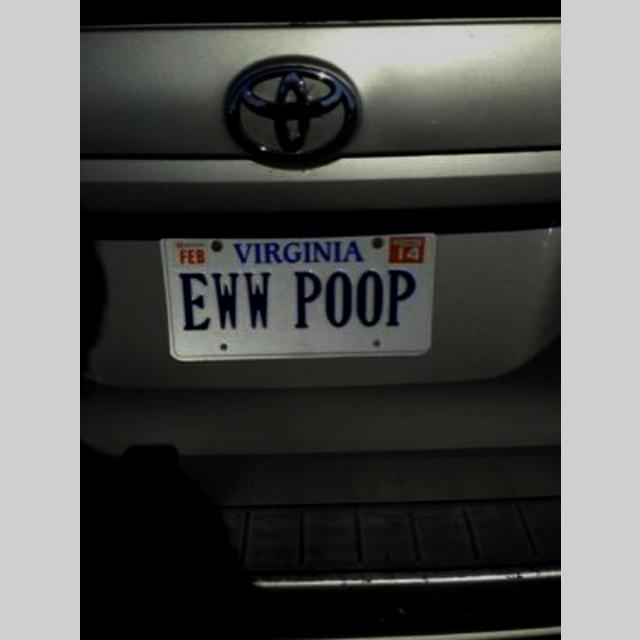plate: (160, 240, 430, 340)
